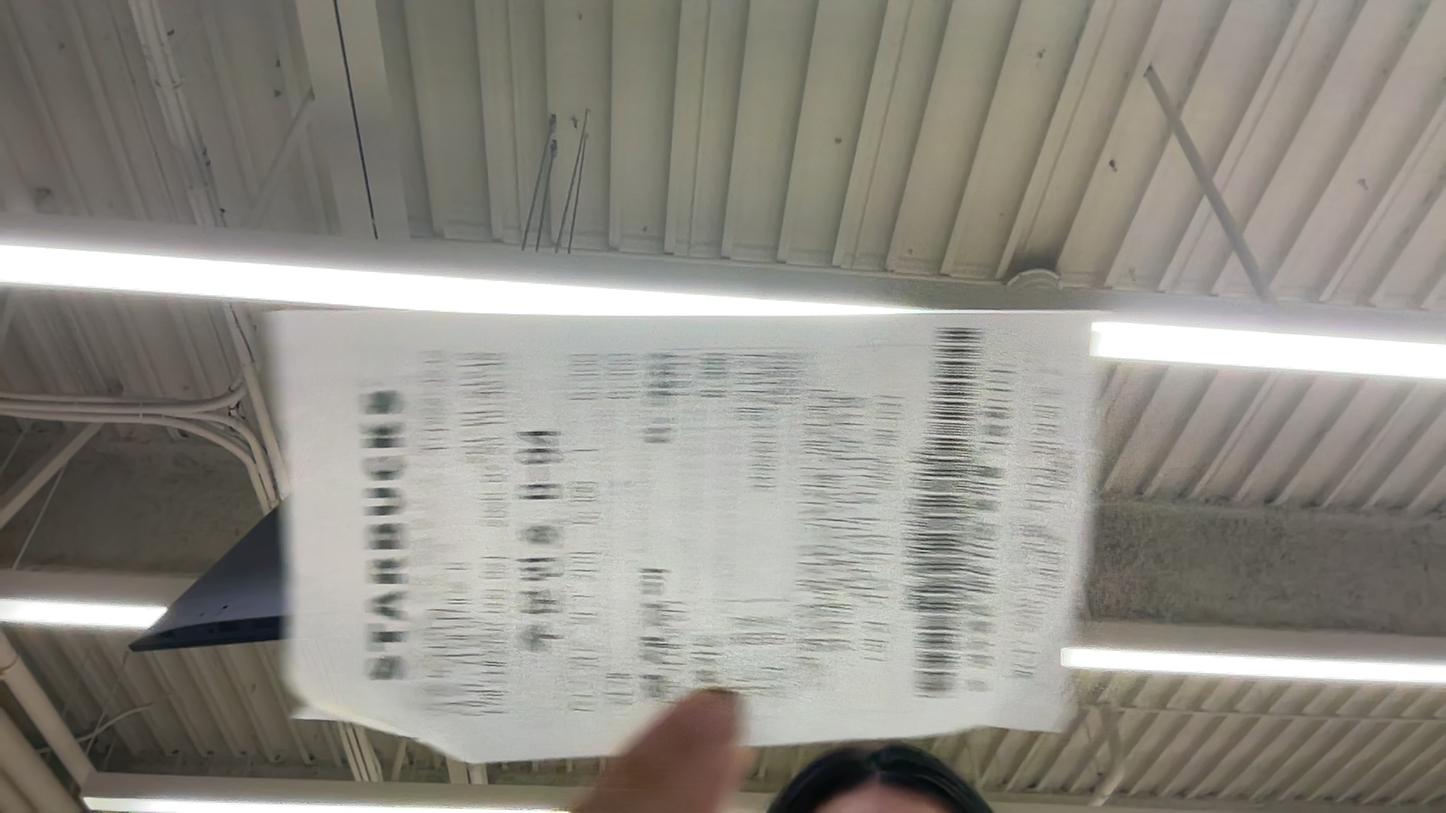Paper: (3, 401, 278, 613)
